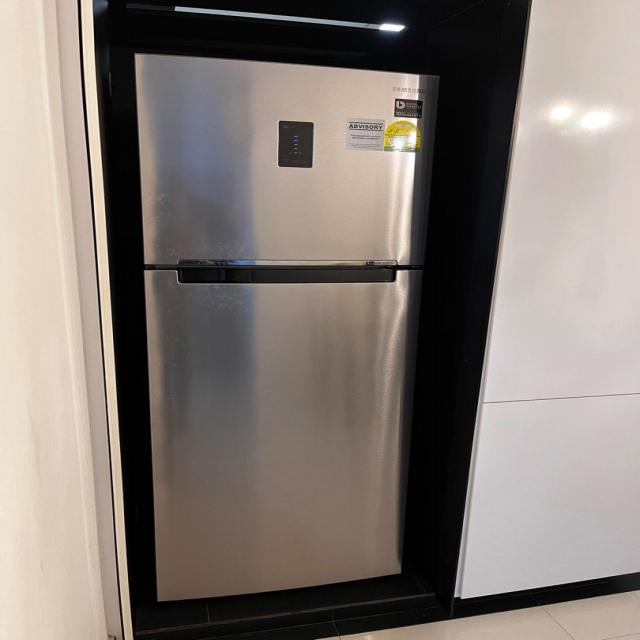refrigerator: (128, 47, 450, 602)
